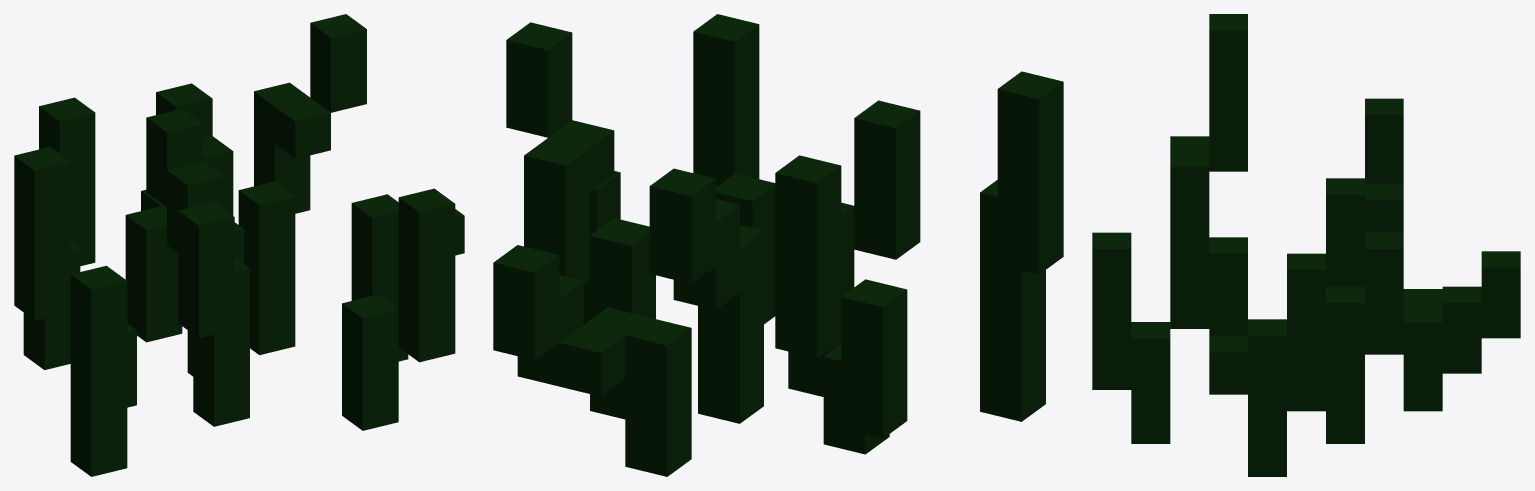
Rendered from grass2.fbx.
3 views of the same model, side by side, from view 1: azimuth 30°, elevation 25°; view 2: azimuth 150°, elevation 25°; view 3: azimuth 270°, elevation 25° (orthographic). The views are drawn at different scales.
Visible parts, largest first — view 1: grass2; view 2: grass2; view 3: grass2.
Part boxes in pixels (x1,y1,x2,y2): grass2: (14,14,464,476); grass2: (493,14,1063,476); grass2: (1092,14,1520,476).
Size of the model in its own units: 12 by 8 by 11.
1 material, 1 textured.
